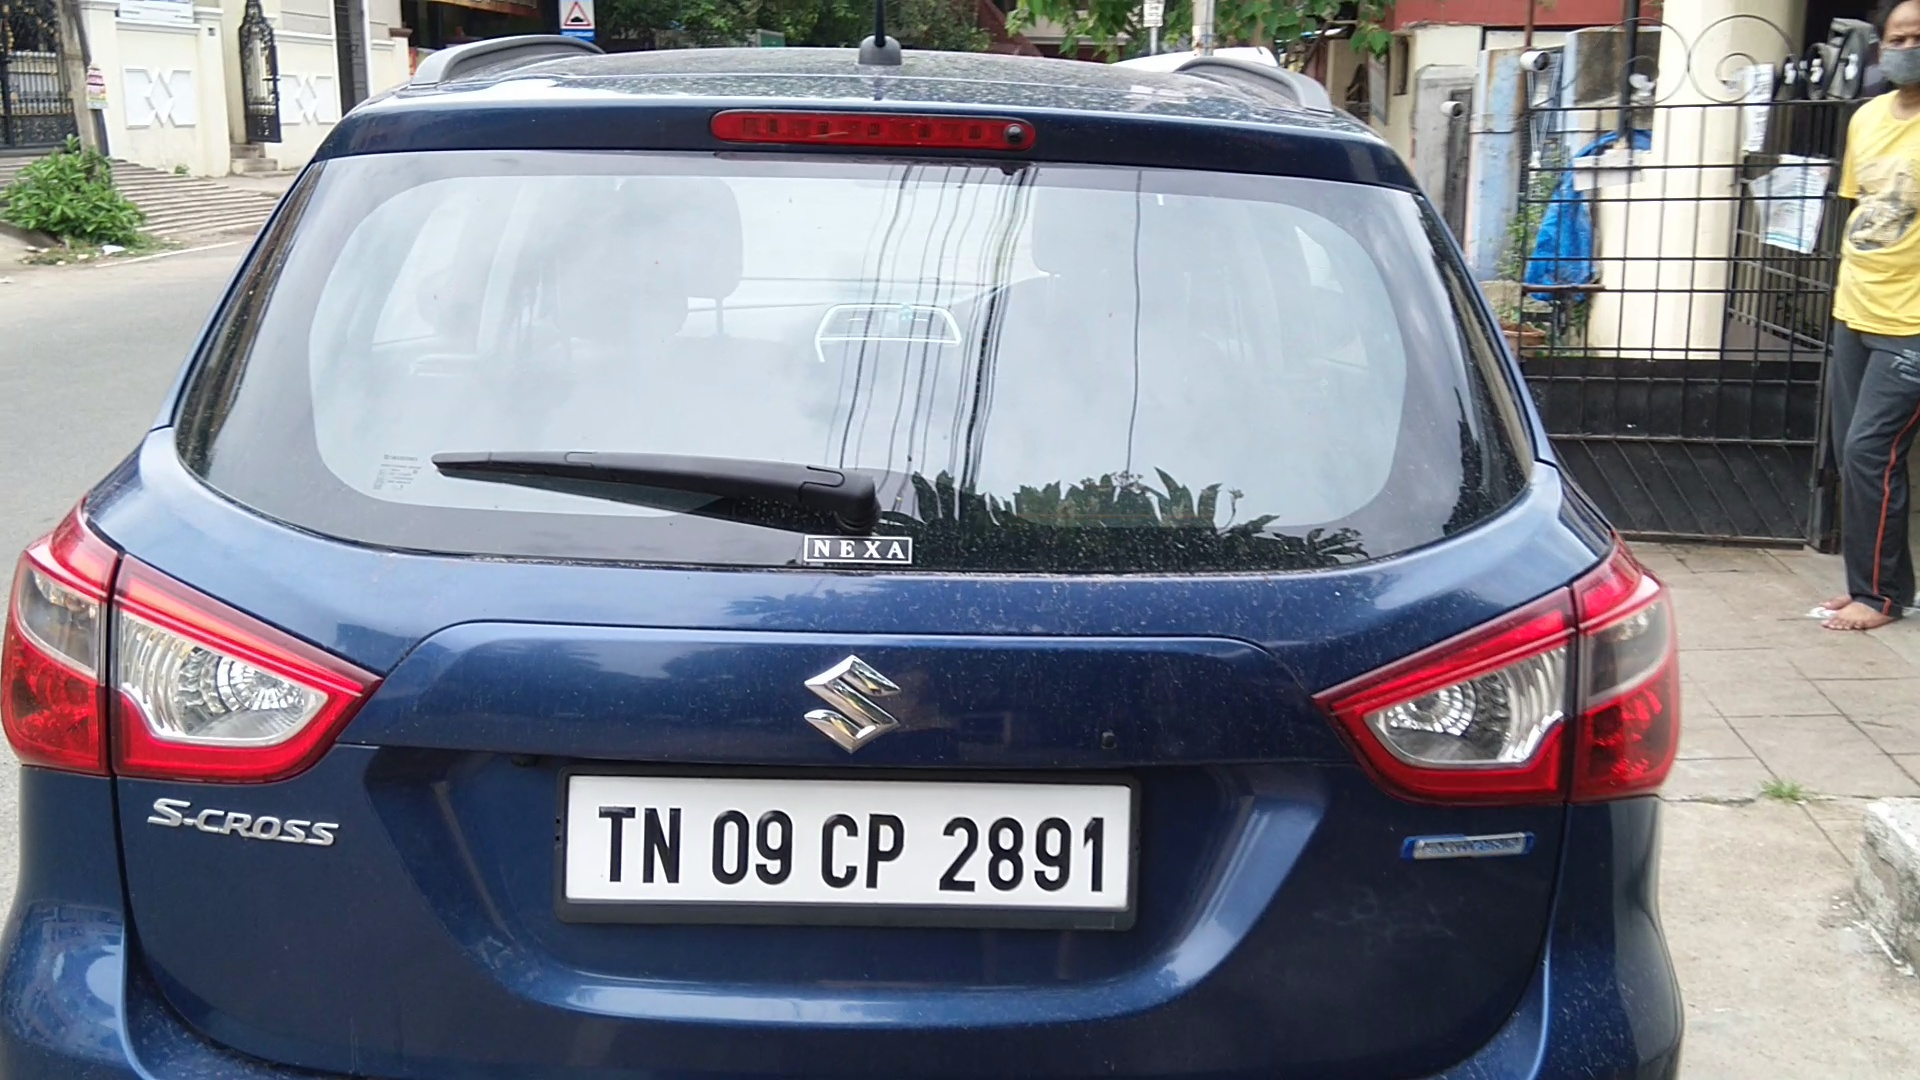rear_camera: (1000, 113, 1035, 158)
shvs: (1389, 822, 1555, 884)
